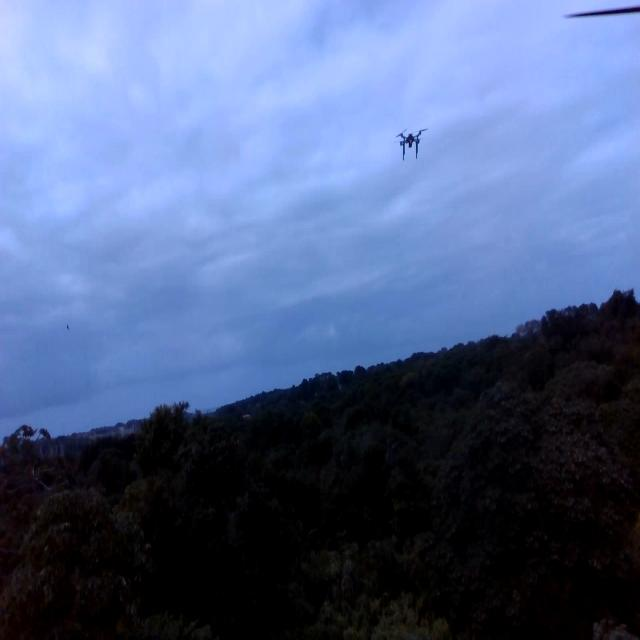-uav-: (391, 108, 430, 172)
